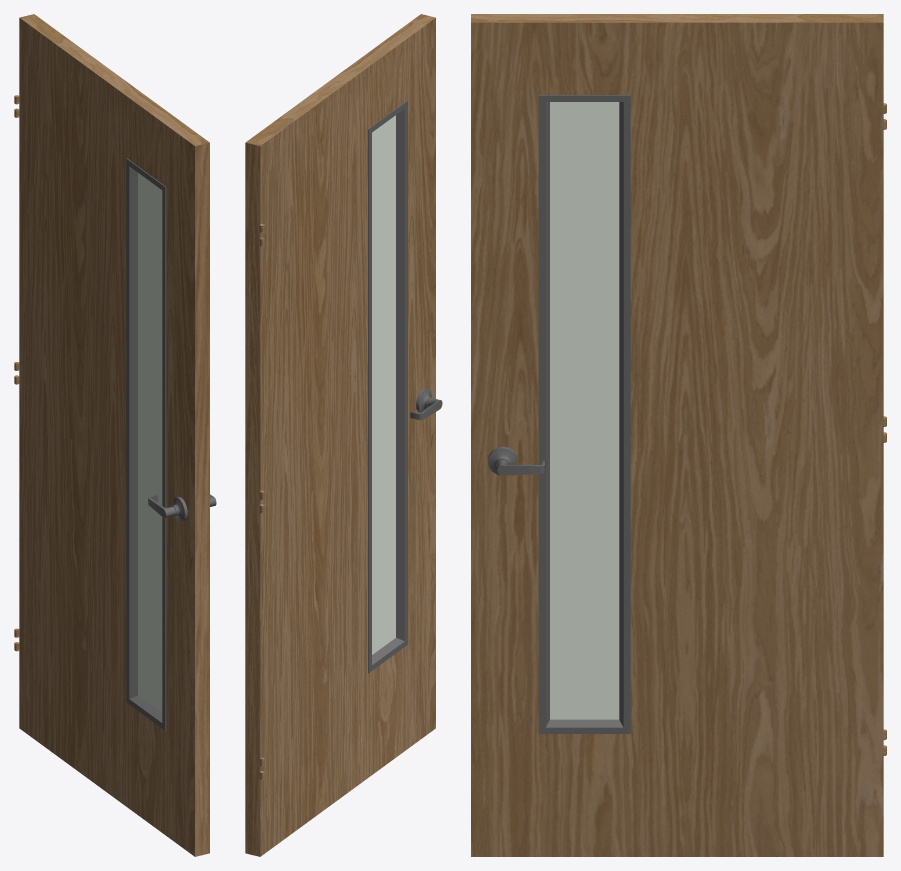
File: Door.fbx
The picture shows the model from 3 angles, left to right: view 1: azimuth 30°, elevation 25°; view 2: azimuth 150°, elevation 25°; view 3: azimuth 270°, elevation 25°; orthographic projection. The views are drawn at different scales.
Visible parts, largest first — view 1: door_004, handle_004; view 2: door_004, handle_004; view 3: door_004, handle_004.
Boxes of the visible parts, x1=… form: door_004: x1=14, y1=14, x2=209, y2=856; handle_004: x1=148, y1=494, x2=216, y2=522; door_004: x1=245, y1=14, x2=435, y2=856; handle_004: x1=410, y1=388, x2=442, y2=420; door_004: x1=471, y1=14, x2=886, y2=856; handle_004: x1=488, y1=446, x2=545, y2=475.
Size of the model in its own units: 15.09 by 203 by 91.72.
